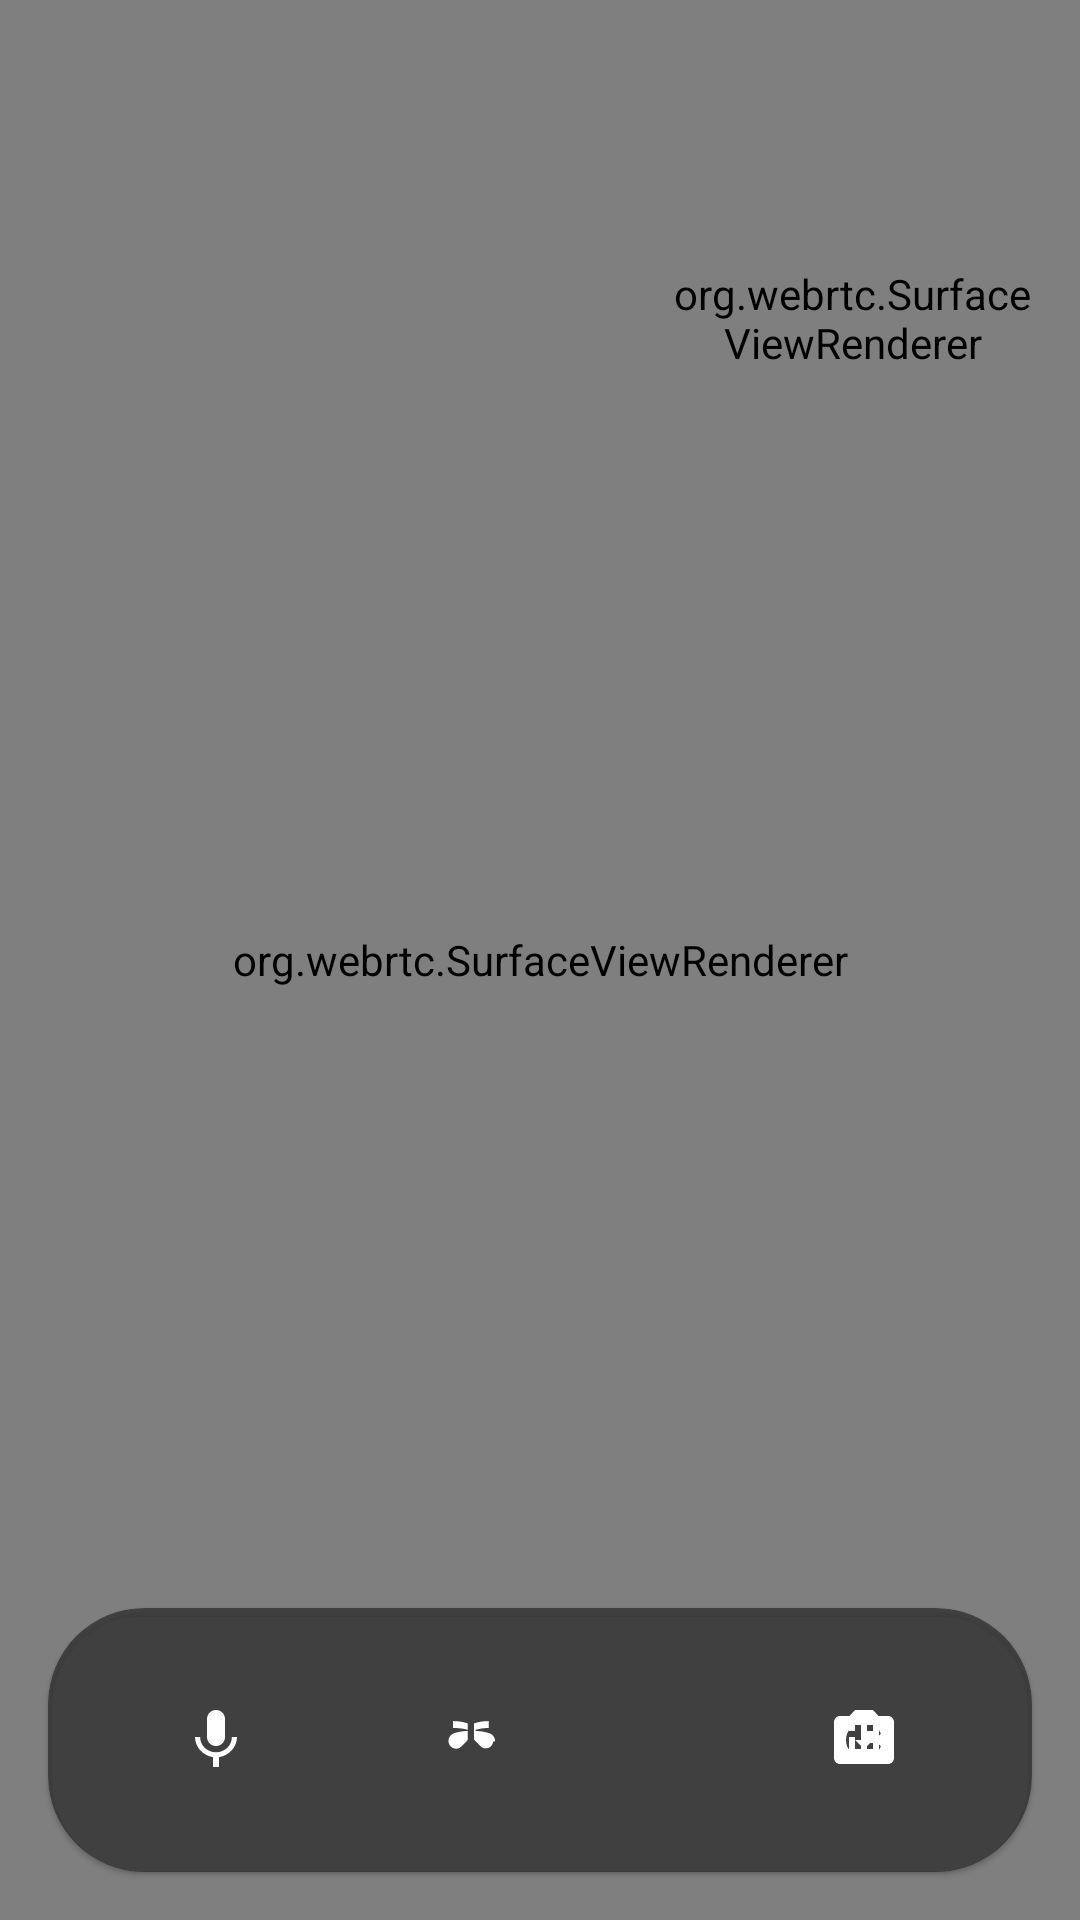

Icons on this 1080×1920 Android screen, each with the point to tap as (x,y):
call end: (471,1735)
mic: (216,1738)
switch camera: (864,1737)
